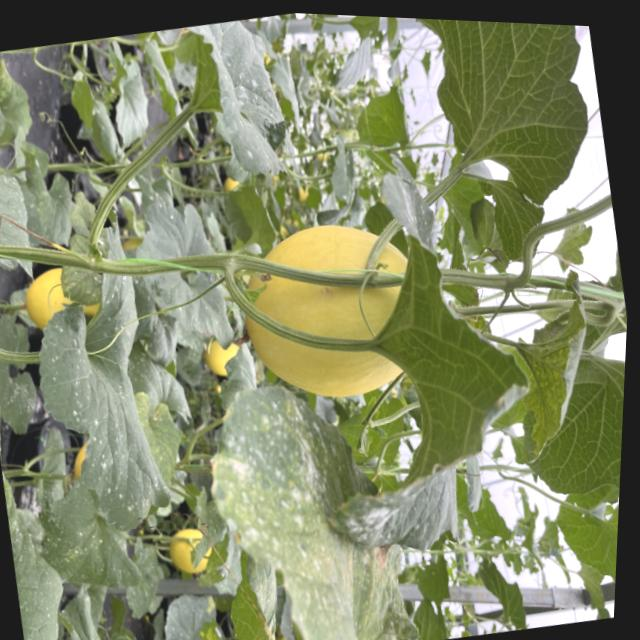downy mildew: (490, 264, 613, 469)
healthy: (404, 18, 622, 280), (489, 229, 631, 524), (120, 177, 247, 369)
powdery mildew: (262, 123, 565, 572), (185, 356, 426, 640), (3, 202, 184, 545), (170, 10, 304, 192), (33, 464, 149, 601), (0, 501, 81, 640), (0, 92, 52, 294)
